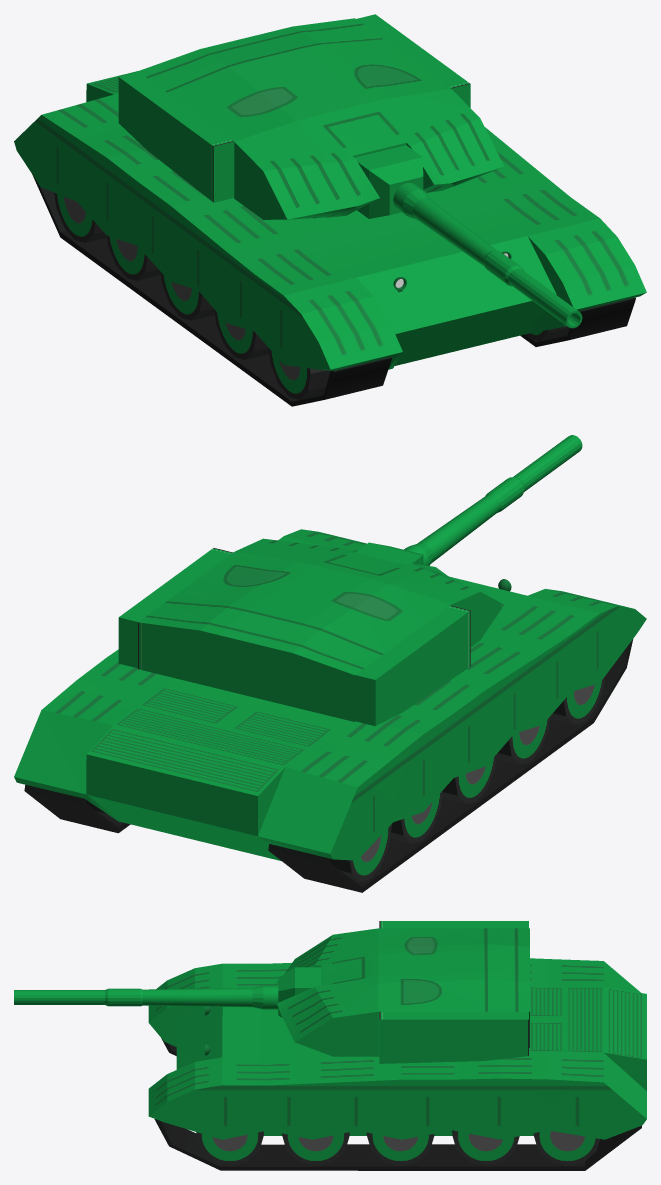
The model's file is Tank_05.fbx.
3 renders of one model, top to bottom at view 1: azimuth 30°, elevation 25°; view 2: azimuth 150°, elevation 25°; view 3: azimuth 270°, elevation 25°, orthographic. The views are drawn at different scales.
Visible parts, largest first — view 1: Tank_05_Body, Upper_Body, Main_Gun_With_Body, Tank_05_Chain01, Tank_05_Chain02, Tank_05_Wheel01, Tank_05_Wheel07, Tank_05_Wheel09, Tank_05_Wheel03, Tank_05_Wheel05; view 2: Tank_05_Body, Upper_Body, Tank_05_Chain01, Main_Gun_With_Body, Tank_05_Chain02, Tank_05_Wheel09, Tank_05_Wheel01, Tank_05_Wheel05, Tank_05_Wheel03, Tank_05_Wheel07; view 3: Tank_05_Body, Upper_Body, Tank_05_Chain02, Main_Gun_With_Body, Tank_05_Wheel10, Tank_05_Wheel02, Tank_05_Wheel08, Tank_05_Wheel04, Tank_05_Wheel06.
Boxes of the visible parts, left/top/right/bottom form: Tank_05_Body: left=14, top=71, right=646, bottom=370; Upper_Body: left=118, top=14, right=503, bottom=219; Main_Gun_With_Body: left=354, top=145, right=582, bottom=328; Tank_05_Chain01: left=32, top=174, right=391, bottom=406; Tank_05_Chain02: left=520, top=297, right=635, bottom=346; Tank_05_Wheel01: left=268, top=348, right=330, bottom=399; Tank_05_Wheel07: left=106, top=235, right=160, bottom=280; Tank_05_Wheel09: left=54, top=192, right=106, bottom=242; Tank_05_Wheel03: left=214, top=309, right=269, bottom=359; Tank_05_Wheel05: left=160, top=271, right=214, bottom=320; Tank_05_Body: left=14, top=529, right=646, bottom=860; Upper_Body: left=118, top=538, right=503, bottom=726; Tank_05_Chain01: left=268, top=639, right=633, bottom=892; Main_Gun_With_Body: left=355, top=435, right=582, bottom=565; Tank_05_Chain02: left=24, top=784, right=130, bottom=833; Tank_05_Wheel09: left=329, top=824, right=391, bottom=881; Tank_05_Wheel01: left=550, top=676, right=605, bottom=724; Tank_05_Wheel05: left=442, top=754, right=496, bottom=804; Tank_05_Wheel03: left=496, top=716, right=550, bottom=764; Tank_05_Wheel07: left=390, top=790, right=443, bottom=843; Tank_05_Body: left=148, top=958, right=646, bottom=1139; Upper_Body: left=277, top=921, right=529, bottom=1063; Tank_05_Chain02: left=154, top=1119, right=641, bottom=1170; Main_Gun_With_Body: left=14, top=967, right=320, bottom=1017; Tank_05_Wheel10: left=533, top=1130, right=600, bottom=1165; Tank_05_Wheel02: left=196, top=1131, right=263, bottom=1165; Tank_05_Wheel08: left=452, top=1130, right=519, bottom=1165; Tank_05_Wheel04: left=282, top=1132, right=349, bottom=1165; Tank_05_Wheel06: left=366, top=1132, right=434, bottom=1165.
Bounding box in the file's own units: 52.77 × 30.69 × 116.
